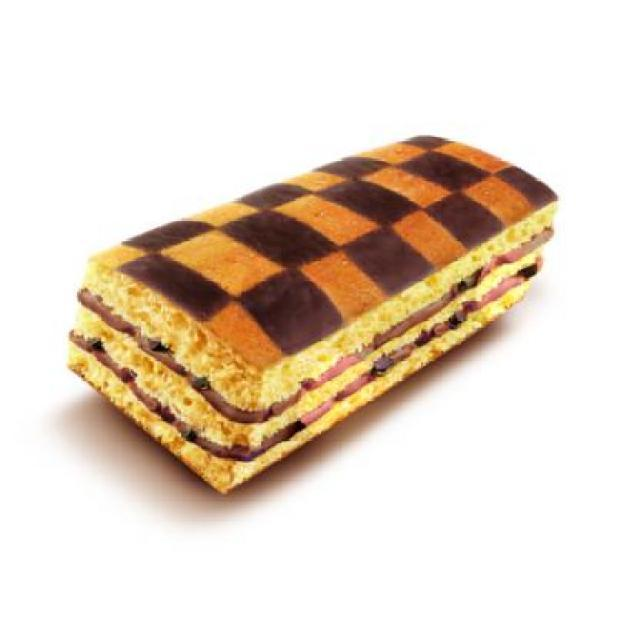Merendine packaged: (60, 130, 594, 484)
